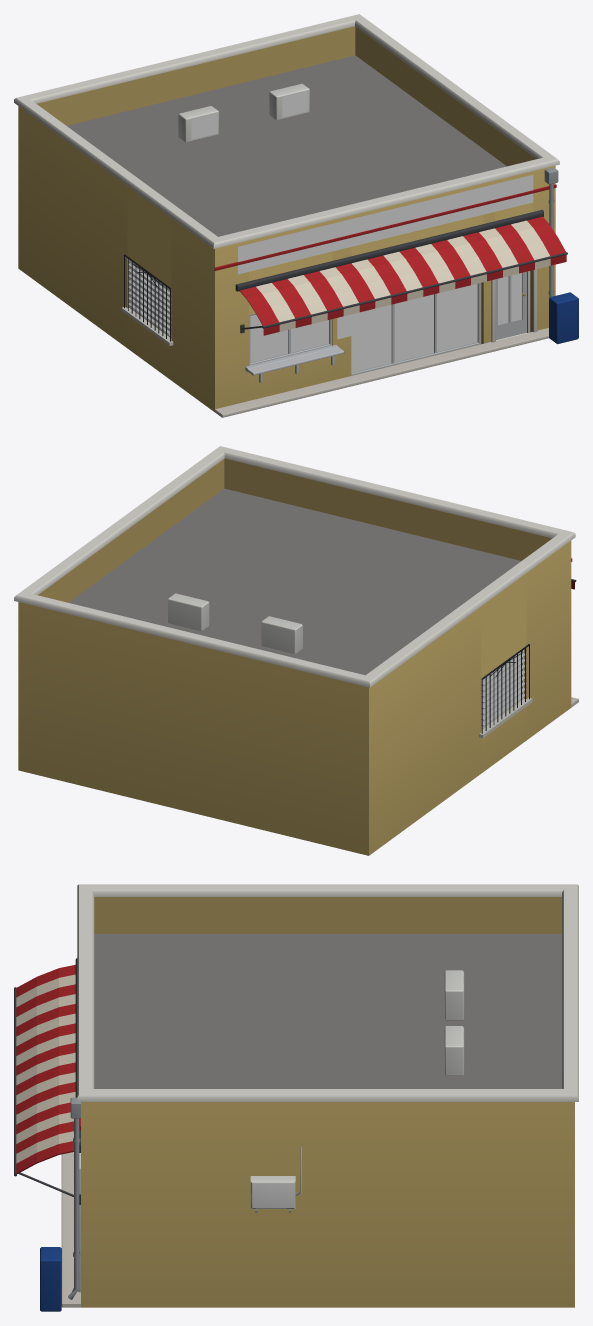
Rendered from VentanitaMIA.fbx.
3 renders of one model, top to bottom at view 1: azimuth 30°, elevation 25°; view 2: azimuth 150°, elevation 25°; view 3: azimuth 270°, elevation 25°, orthographic. The views are drawn at different scales.
Visible parts, largest first — view 1: VentanitaMIA; view 2: VentanitaMIA; view 3: VentanitaMIA.
Boxes of the visible parts, <box> form: VentanitaMIA: <box>14,14,578,417</box>; VentanitaMIA: <box>14,446,578,855</box>; VentanitaMIA: <box>14,884,578,1311</box>.
Size of the model in its own units: 9.41 by 4.38 by 10.29.
